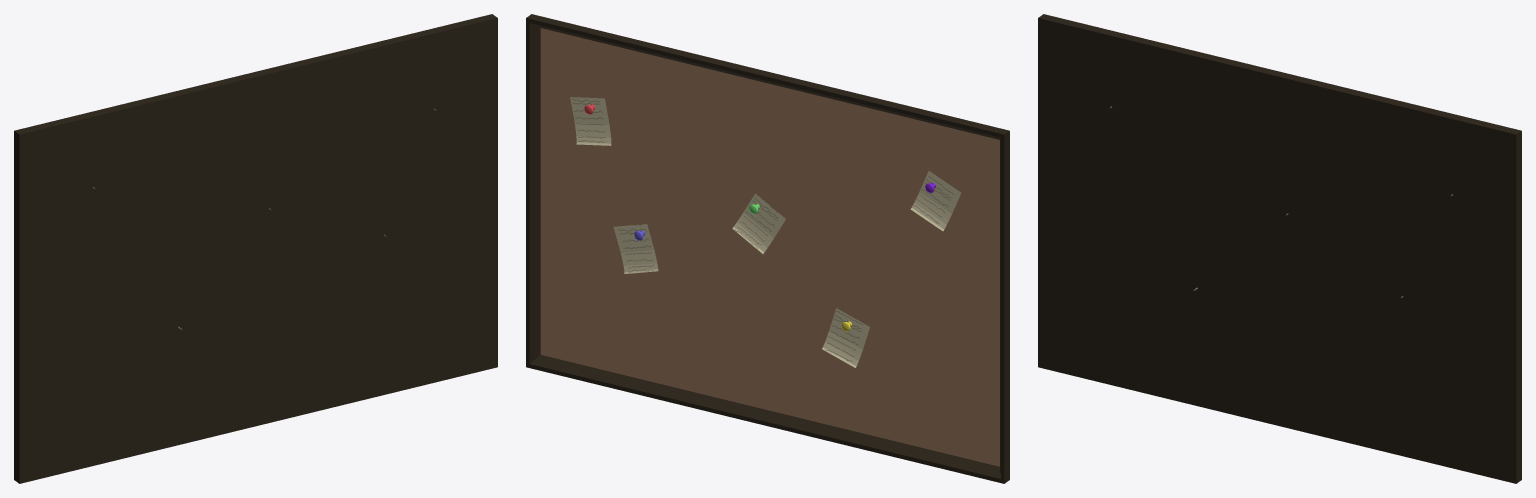
Rendered from PROJECT DREAM - Bedroom - Notice Board.fbx.
3 views of the same model, side by side, from view 1: azimuth 30°, elevation 25°; view 2: azimuth 150°, elevation 25°; view 3: azimuth 330°, elevation 25° (orthographic).
Parts seen in each view (by area): view 1: Bedroom - Notice Board; view 2: Bedroom - Notice Board; view 3: Bedroom - Notice Board.
Part boxes in pixels (x1,y1,x2,y2): Bedroom - Notice Board: (14,14,497,483); Bedroom - Notice Board: (526,14,1009,483); Bedroom - Notice Board: (1038,14,1521,483).
Bounding box in the file's own units: 194 × 135 × 7.68.
9 materials, 1 textured.
